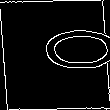O_W: (9, 32, 101, 78)
